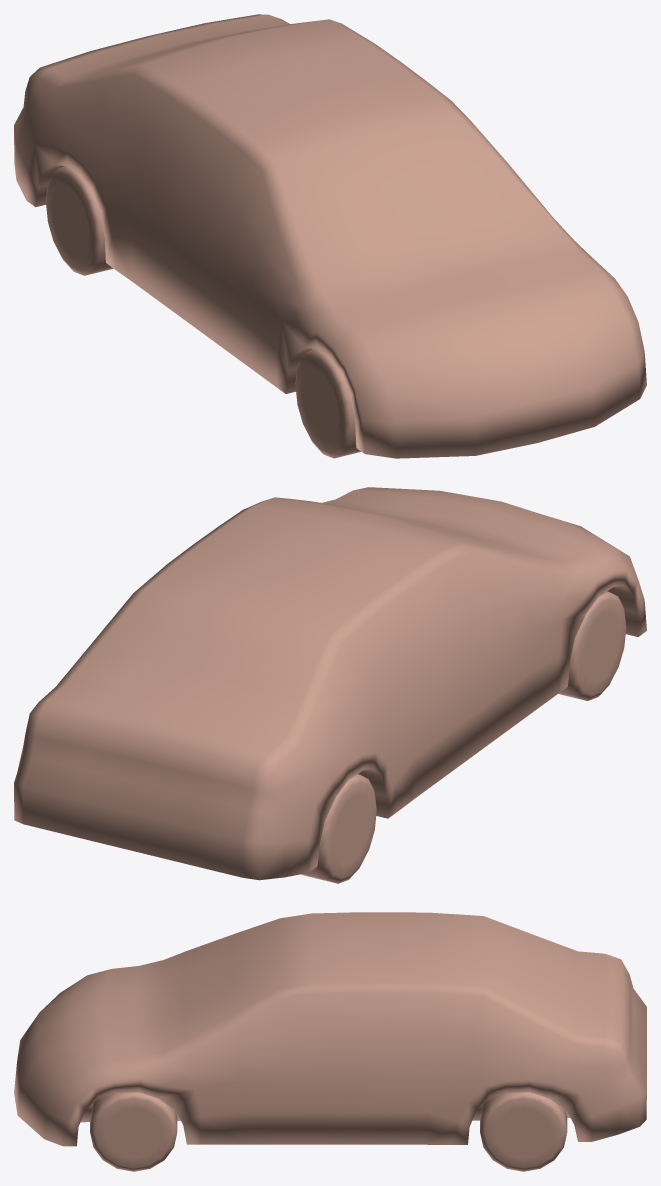
File: Sedan.fbx
3 renders of one model, top to bottom at view 1: azimuth 30°, elevation 25°; view 2: azimuth 150°, elevation 25°; view 3: azimuth 270°, elevation 25°, orthographic. The views are drawn at different scales.
Visible parts, largest first — view 1: Sedan:sedanCar, Sedan:wheel_front_right, Sedan:wheel_rear_right; view 2: Sedan:sedanCar, Sedan:wheel_rear_right, Sedan:wheel_front_right; view 3: Sedan:sedanCar, Sedan:wheel_rear_left, Sedan:wheel_front_left.
Part boxes in pixels (x1,y1,x2,y2): Sedan:sedanCar: [14, 14, 646, 458]; Sedan:wheel_front_right: [295, 349, 361, 458]; Sedan:wheel_rear_right: [46, 166, 113, 275]; Sedan:sedanCar: [14, 487, 646, 880]; Sedan:wheel_rear_right: [301, 774, 376, 883]; Sedan:wheel_front_right: [558, 591, 626, 700]; Sedan:sedanCar: [14, 912, 646, 1146]; Sedan:wheel_rear_left: [480, 1092, 567, 1171]; Sedan:wheel_front_left: [90, 1092, 177, 1171].
Bounding box in the file's own units: 175 × 134 × 435.
